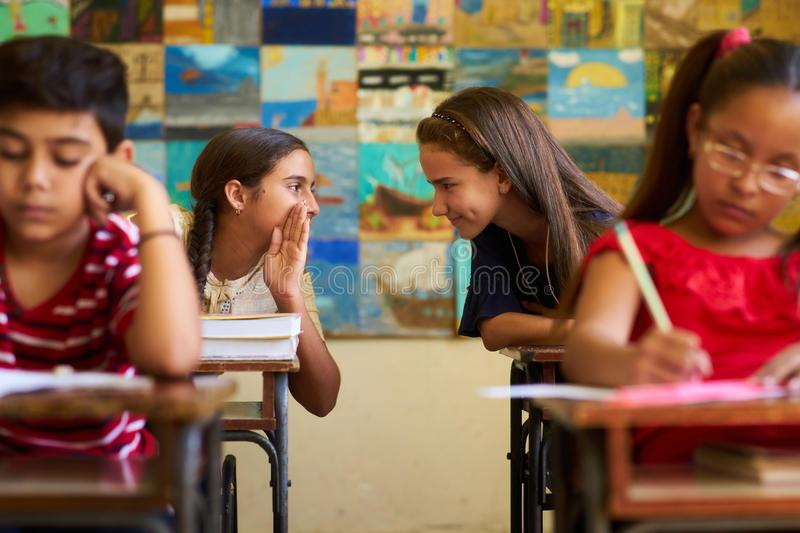student: (546, 19, 800, 408)
studentcopying: (390, 65, 623, 351), (167, 107, 362, 414)
